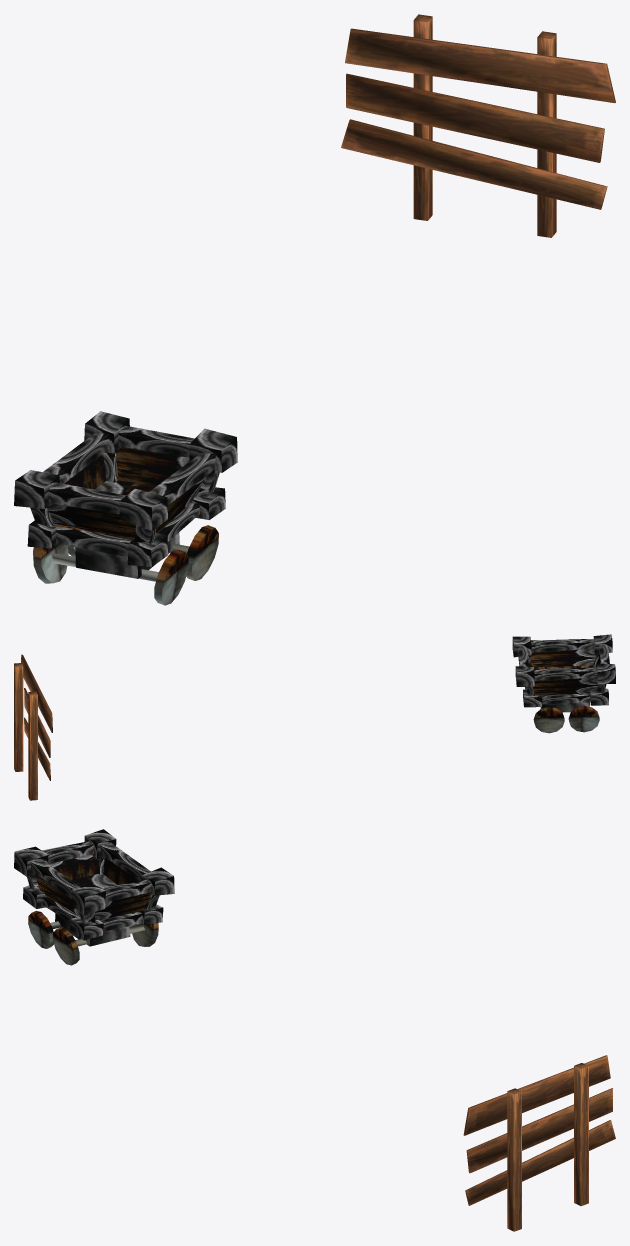
The model's file is CART_CRASH_ANIMINST.obj.
3 renders of one model, top to bottom at view 1: azimuth 30°, elevation 25°; view 2: azimuth 150°, elevation 25°; view 3: azimuth 270°, elevation 25°, orthographic. The views are drawn at different scales.
Visible parts, largest first — view 1: m7f01, board1, board2, board3, stand2, stand1; view 2: m7f01, stand1, stand2, board1, board2, board3; view 3: m7f01, board1, board2, board3, stand2, stand1.
Boxes of the visible parts, <box> form: m7f01: <box>14,411,237,605</box>; board1: <box>345,28,615,102</box>; board2: <box>346,73,604,162</box>; board3: <box>341,119,607,209</box>; stand2: <box>537,31,556,237</box>; stand1: <box>413,14,432,220</box>; m7f01: <box>512,634,615,733</box>; stand1: <box>28,691,37,800</box>; stand2: <box>14,663,23,771</box>; board1: <box>21,654,52,732</box>; board2: <box>24,688,50,757</box>; board3: <box>24,717,50,780</box>; m7f01: <box>14,829,174,965</box>; board1: <box>463,1055,610,1135</box>; board2: <box>466,1088,612,1173</box>; board3: <box>465,1120,615,1205</box>; stand2: <box>507,1088,521,1231</box>; stand1: <box>574,1063,588,1205</box>.
Bounding box in the file's own units: 754 × 166 × 659.
